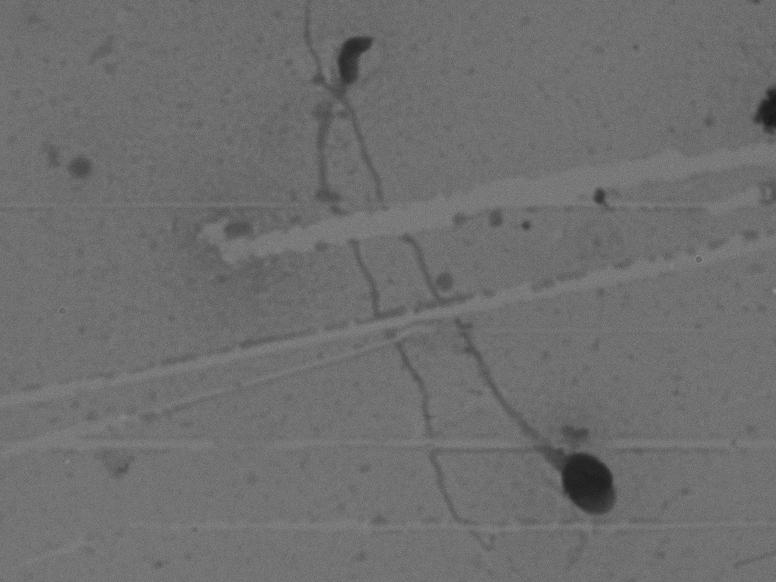Abnormal: (335, 100, 661, 543), (294, 18, 530, 557)
